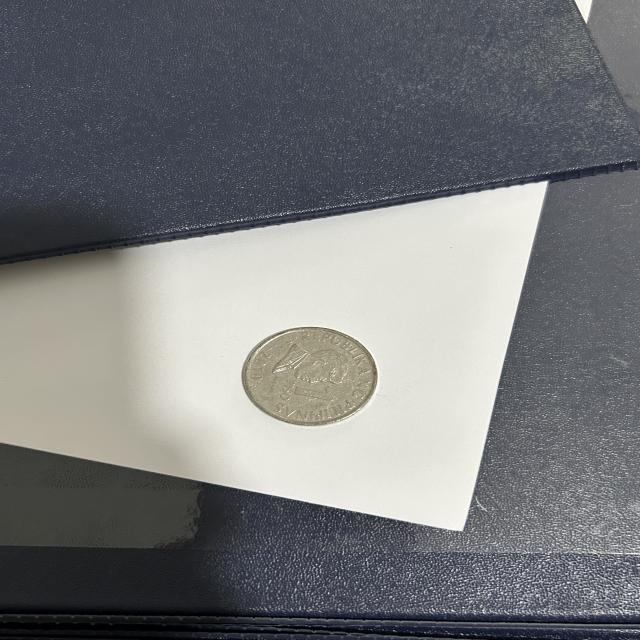1_Old_Front: (274, 378, 338, 410)
